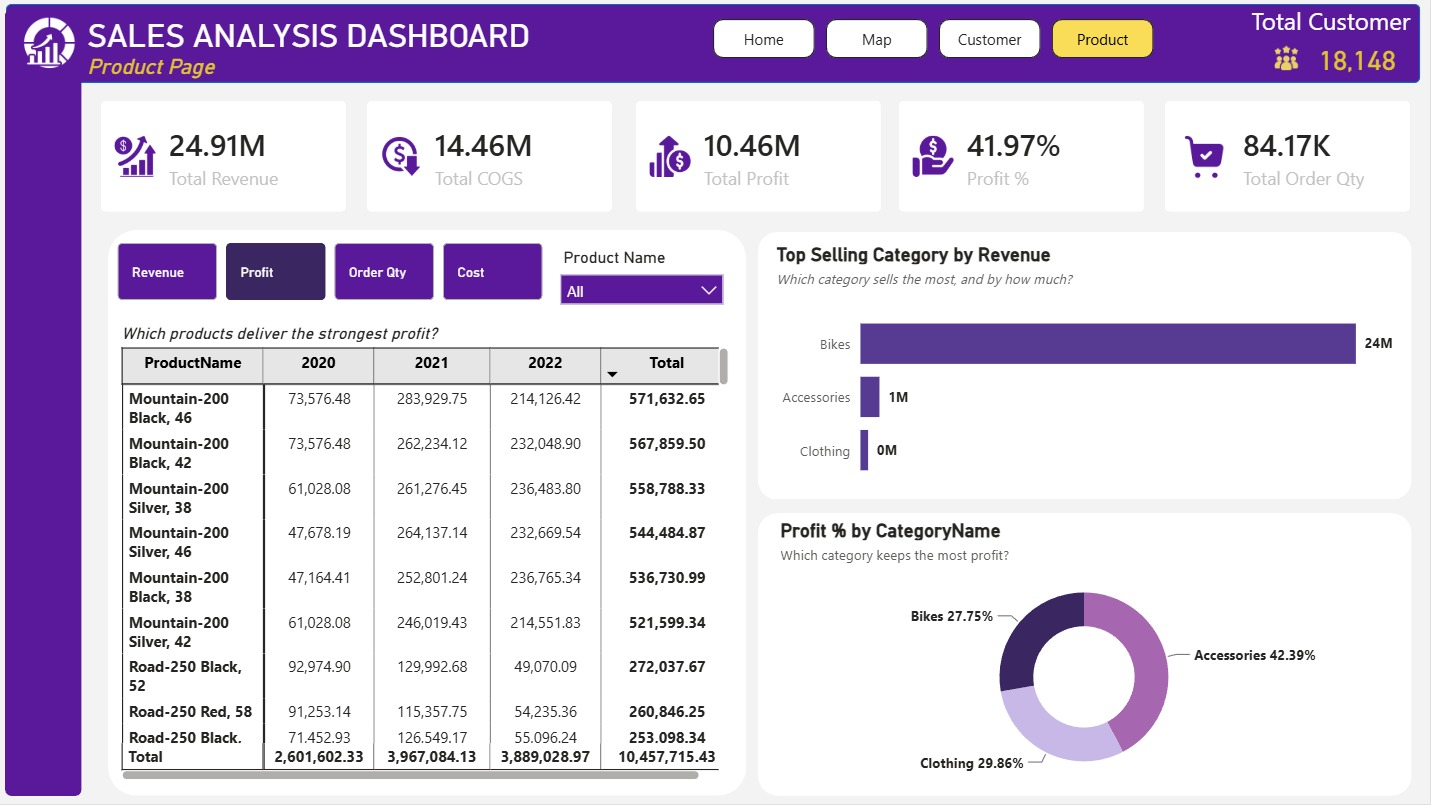

The page's visual inventory and layout, read from the dashboard file:
{"tool":"powerbi","page":{"name":"Product","canvas":[1280,720],"ordinal":3},"visuals":[{"type":"textbox","box":[1115.7,0,155.2,45.4],"z":0,"group":"g1"},{"type":"shape","box":[6,4,1264.9,70.6],"z":0},{"type":"shape","box":[5.8,9.3,68.5,703.9],"z":1000},{"type":"card","fields":{"Values":["All Calculation.No of Customer"]},"box":[1167.1,36.3,96.8,34.3],"z":1000,"group":"g1"},{"type":"image","box":[16.1,15.1,58.5,48.4],"z":2000},{"type":"image","box":[1135.9,40.3,31.2,25.2],"z":2000,"group":"g1"},{"type":"textbox","box":[74.6,11.1,564.4,76.6],"z":3000},{"type":"group","id":"g1","title":"Group 1","box":[1115.7,0,155.2,70.6],"z":4000},{"type":"cardVisual","fields":{"Data":["All Calculation.Total Revenue"]},"box":[74.6,74.6,254,133],"z":5000},{"type":"cardVisual","fields":{"Data":["All Calculation.Total COGS"]},"box":[312.4,74.6,254,133],"z":6000},{"type":"cardVisual","fields":{"Data":["All Calculation.Total Profit"]},"box":[552.3,74.6,254,133],"z":7000},{"type":"cardVisual","fields":{"Data":["All Calculation.Profit %"]},"box":[788.2,74.6,254,133],"z":8000},{"type":"cardVisual","fields":{"Data":["All Calculation.Total Order Qty"]},"box":[1026,74.6,254,133],"z":9000},{"type":"shape","box":[97.2,206.9,570.8,506],"z":10000},{"type":"pivotTable","fields":{"Columns":["Calendar.Date Hierarchy.Year","Calendar.Date Hierarchy.Month Name"],"Rows":["Product Lookup.ProductName"],"Values":["All Calculation.Total Revenue"]},"box":[104.7,290.4,553.4,412.5],"z":11000},{"type":"advancedSlicerVisual","fields":{"Values":["KPI Parameter.KPI Parameter"]},"box":[101.3,218.4,391.5,57],"z":12000},{"type":"slicer","fields":{"Values":["Product Lookup.ProductName"]},"box":[492.3,218.1,165.8,57.3],"z":13000},{"type":"pageNavigator","box":[639,18.1,394.6,35.5],"z":14000},{"type":"shape","box":[679.3,208.1,584.5,239.3],"z":15000},{"type":"shape","box":[679.3,459.9,584.5,253],"z":16000},{"type":"clusteredBarChart","title":"Top Selling Category by Revenue","fields":{"Category":["Product Categories Lookup.CategoryName"],"Y":["All Calculation.Total Revenue"]},"box":[690.5,218.1,562.1,229.3],"z":17000},{"type":"donutChart","fields":{"Category":["Product Categories Lookup.CategoryName"],"Y":["All Calculation.Profit %"]},"box":[694.1,464.7,552.6,242.5],"z":18000}]}

Visuals, with their boxes in screenshot pixels (x1, y1, x2, y2), scaled from the page's 1280x720 canvas onto the 1431x805 screenshot:
textbox: l=1247, t=0, r=1421, b=51
shape: l=7, t=4, r=1421, b=83
shape: l=6, t=10, r=83, b=797
card - All Calculation.No of Customer: l=1305, t=41, r=1413, b=79
image: l=18, t=17, r=83, b=71
image: l=1270, t=45, r=1305, b=73
textbox: l=83, t=12, r=714, b=98
"Group 1" group: l=1247, t=0, r=1421, b=79
cardVisual - All Calculation.Total Revenue: l=83, t=83, r=367, b=232
cardVisual - All Calculation.Total COGS: l=349, t=83, r=633, b=232
cardVisual - All Calculation.Total Profit: l=617, t=83, r=901, b=232
cardVisual - All Calculation.Profit %: l=881, t=83, r=1165, b=232
cardVisual - All Calculation.Total Order Qty: l=1147, t=83, r=1430, b=232
shape: l=109, t=231, r=747, b=797
pivotTable - Calendar.Date Hierarchy.Year x Calendar.Date Hierarchy.Month Name: l=117, t=325, r=736, b=786
advancedSlicerVisual - KPI Parameter.KPI Parameter: l=113, t=244, r=551, b=308
slicer - Product Lookup.ProductName: l=550, t=244, r=736, b=308
pageNavigator: l=714, t=20, r=1156, b=60
shape: l=759, t=233, r=1413, b=500
shape: l=759, t=514, r=1413, b=797
"Top Selling Category by Revenue" clusteredBarChart: l=772, t=244, r=1400, b=500
donutChart - Product Categories Lookup.CategoryName x All Calculation.Profit %: l=776, t=520, r=1394, b=791
